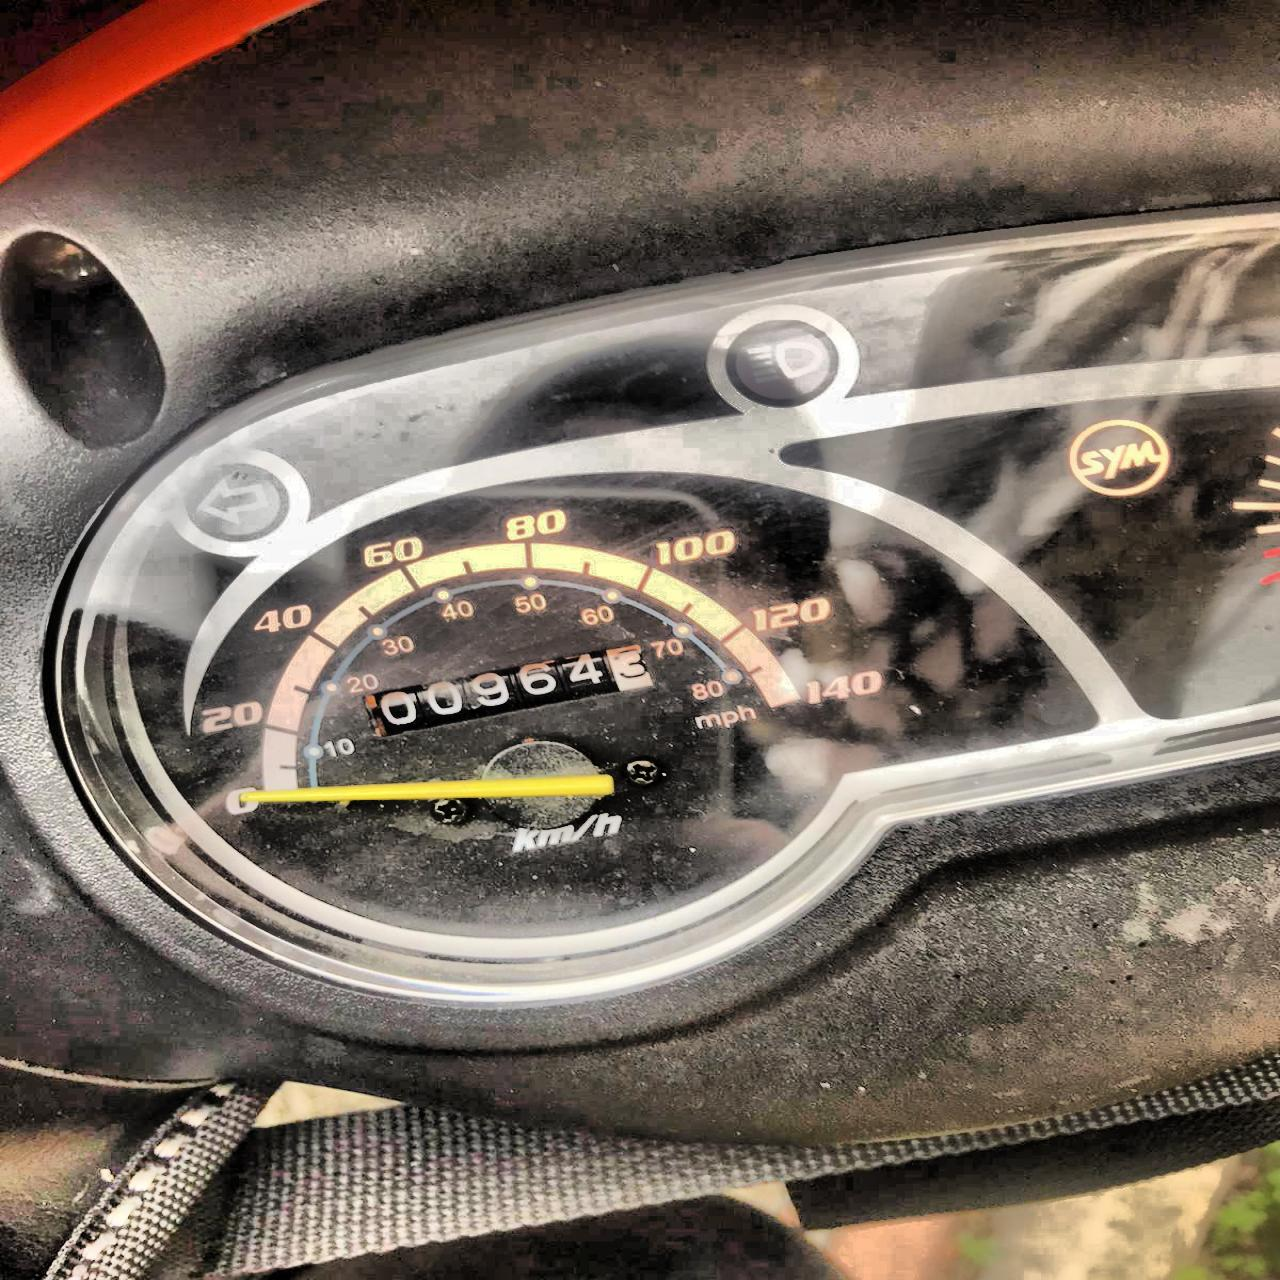0: (422, 676, 464, 719), (379, 688, 418, 726), (396, 632, 416, 651), (361, 670, 379, 692)
3: (606, 647, 654, 686), (379, 635, 393, 656)
4: (565, 651, 601, 688)
6: (513, 659, 557, 697)
9: (471, 669, 510, 710)
odometer: (361, 642, 659, 740)
